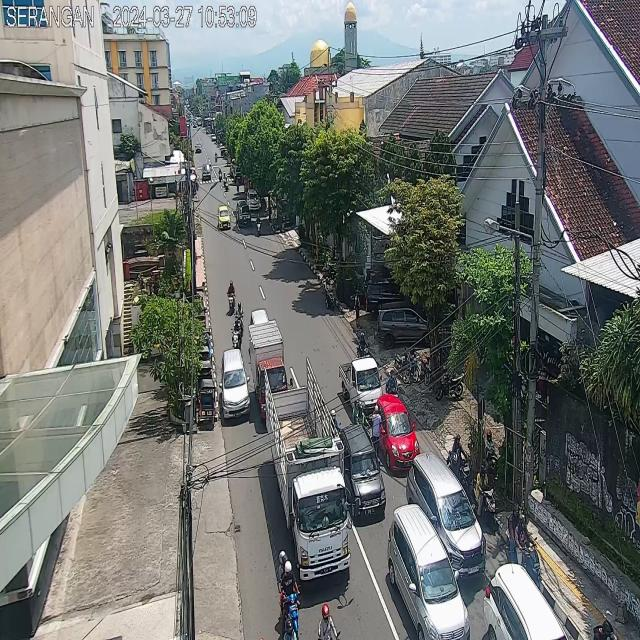car: (387, 502, 470, 640), (407, 452, 486, 574), (485, 559, 567, 640), (342, 420, 386, 524), (372, 391, 419, 470), (222, 350, 248, 420), (236, 200, 251, 228), (218, 204, 230, 229), (247, 190, 260, 210)
motorcycle: (507, 504, 543, 592), (272, 545, 302, 640), (470, 462, 498, 532), (446, 432, 472, 492), (316, 600, 340, 640), (349, 397, 370, 437), (323, 274, 335, 313), (356, 331, 372, 358), (230, 317, 243, 350), (386, 369, 400, 399), (226, 279, 237, 315), (329, 406, 341, 436), (235, 299, 245, 331), (256, 214, 262, 238)
truck: (265, 371, 350, 581), (250, 324, 290, 424), (342, 355, 384, 413)
